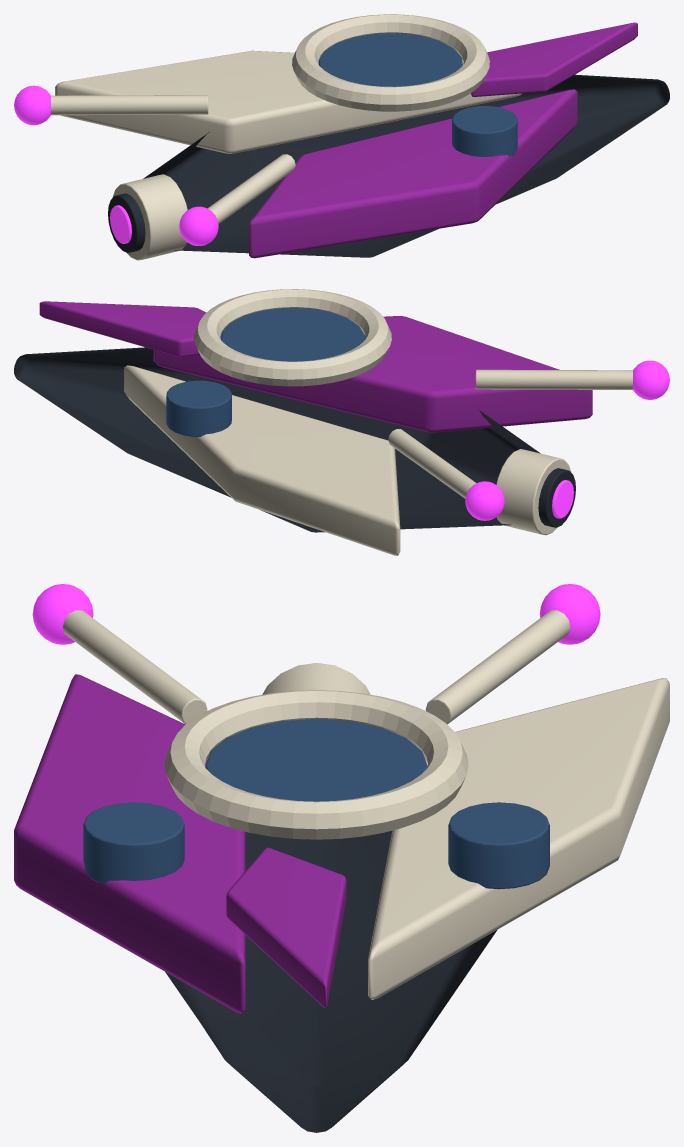
Rendered from forgery-v3.glb.
3 renders of one model, top to bottom at view 1: azimuth 30°, elevation 25°; view 2: azimuth 150°, elevation 25°; view 3: azimuth 270°, elevation 25°, orthographic. The views are drawn at different scales.
Visible parts, largest first — view 1: violet false wing, stolen white wing, counterfeit spindle, stolen identity bezel, split nose plate, identity screen, main drive collar, false antenna.001, identity projector, false antenna, spoof terminal, spoof terminal.001 (+2 smaller); view 2: stolen white wing, counterfeit spindle, violet false wing, stolen identity bezel, identity screen, split nose plate, main drive collar, identity projector.001, false antenna, false antenna.001, spoof terminal.001, spoof terminal (+2 smaller); view 3: stolen white wing, violet false wing, counterfeit spindle, stolen identity bezel, identity screen, split nose plate, identity projector.001, identity projector, false antenna.001, false antenna, spoof terminal.001, spoof terminal (+1 smaller).
Part boxes in pixels (bbox=[...]): violet false wing: bbox=[249, 89, 577, 258]; stolen white wing: bbox=[55, 50, 521, 153]; counterfeit spindle: bbox=[143, 74, 669, 257]; stolen identity bezel: bbox=[292, 14, 489, 111]; split nose plate: bbox=[471, 22, 637, 96]; identity screen: bbox=[318, 33, 462, 86]; main drive collar: bbox=[112, 174, 187, 260]; false antenna.001: bbox=[51, 95, 208, 115]; identity projector: bbox=[452, 106, 517, 156]; false antenna: bbox=[207, 154, 295, 223]; spoof terminal: bbox=[179, 206, 218, 245]; spoof terminal.001: bbox=[14, 85, 50, 125]; stolen white wing: bbox=[124, 365, 400, 555]; counterfeit spindle: bbox=[14, 347, 540, 532]; violet false wing: bbox=[153, 316, 592, 432]; stolen identity bezel: bbox=[194, 289, 391, 386]; identity screen: bbox=[221, 308, 365, 361]; split nose plate: bbox=[39, 301, 221, 357]; main drive collar: bbox=[496, 449, 571, 535]; identity projector.001: bbox=[166, 380, 231, 436]; false antenna: bbox=[475, 369, 632, 389]; false antenna.001: bbox=[388, 429, 476, 498]; spoof terminal.001: bbox=[465, 481, 504, 520]; spoof terminal: bbox=[633, 360, 669, 399]; stolen white wing: bbox=[368, 678, 669, 999]; violet false wing: bbox=[14, 674, 245, 1013]; counterfeit spindle: bbox=[165, 830, 496, 1132]; stolen identity bezel: bbox=[164, 690, 468, 839]; identity screen: bbox=[205, 718, 427, 801]; split nose plate: bbox=[226, 847, 346, 1007]; identity projector.001: bbox=[448, 802, 549, 889]; identity projector: bbox=[83, 802, 184, 883]; false antenna.001: bbox=[425, 610, 570, 724]; false antenna: bbox=[63, 610, 207, 724]; spoof terminal.001: bbox=[539, 584, 600, 644]; spoof terminal: bbox=[32, 584, 93, 644].
Bounding box in the file's own units: 99 × 28 × 64.69.
